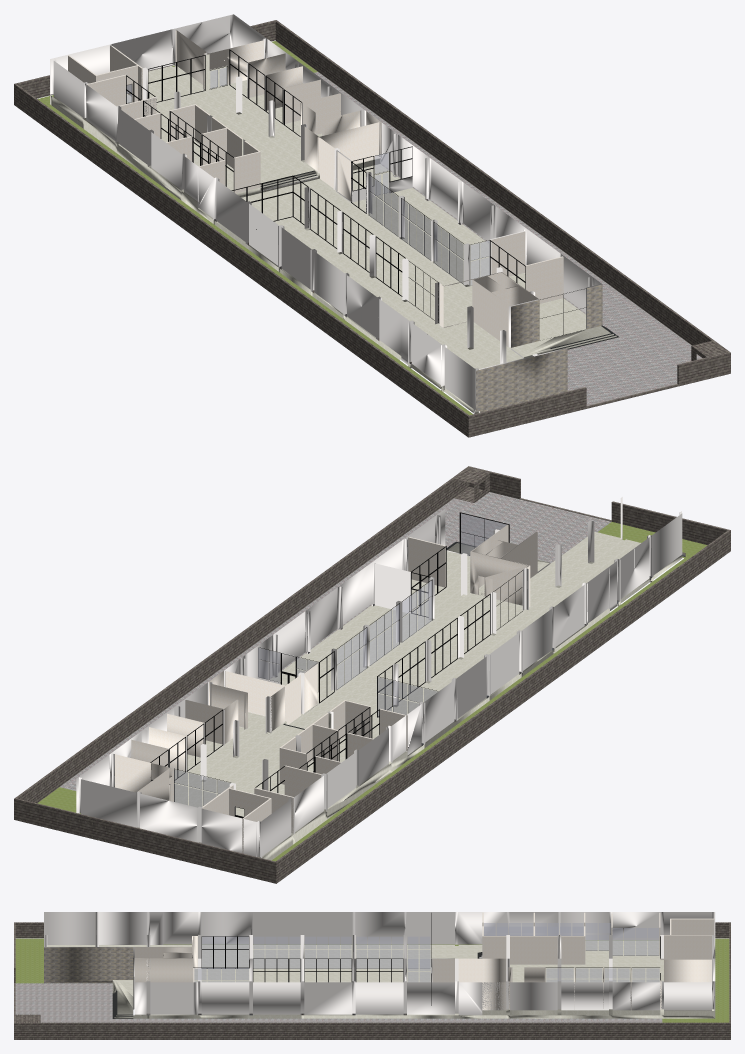
Rendered from Without Furniture-1.glb.
3 views of the same model, one above another, from view 1: azimuth 30°, elevation 25°; view 2: azimuth 150°, elevation 25°; view 3: azimuth 270°, elevation 25° (orthographic). The views are drawn at different scales.
Visible parts, largest first — view 1: Group35, Group1, Group36, Group2, Group26, Group37, Group27, Group24, Group23, Group38, Group22, Group10 (+6 smaller); view 2: Group35, Group1, Group36, Group2, Group26, Group27, Group37, Group24, Group19, Group23, Group22, Group32 (+7 smaller); view 3: Group35, Group1, Group2, Group36, Group27, Group26, Group37, Group28, Group24, Group33, Group16, Group15 (+7 smaller).
Boxes of the visible parts, x1,y1,x2,y2 form: Group35: [50, 14, 602, 413]; Group1: [14, 20, 730, 437]; Group36: [241, 164, 586, 368]; Group2: [37, 41, 702, 415]; Group26: [175, 30, 381, 202]; Group37: [126, 65, 379, 191]; Group27: [68, 45, 260, 193]; Group24: [439, 272, 538, 347]; Group23: [525, 256, 563, 303]; Group38: [511, 325, 618, 357]; Group22: [489, 231, 525, 276]; Group10: [368, 174, 398, 236]; Group35: [76, 497, 685, 860]; Group1: [14, 466, 730, 883]; Group36: [270, 531, 640, 738]; Group2: [37, 492, 707, 861]; Group26: [115, 662, 318, 801]; Group27: [202, 700, 407, 853]; Group37: [174, 712, 345, 818]; Group24: [470, 524, 537, 607]; Group19: [377, 665, 438, 717]; Group23: [408, 537, 445, 587]; Group22: [375, 563, 410, 613]; Group32: [174, 768, 230, 807]; Group35: [44, 912, 715, 1018]; Group1: [14, 922, 730, 1039]; Group2: [15, 938, 729, 1022]; Group36: [47, 945, 482, 982]; Group27: [482, 912, 714, 964]; Group26: [431, 958, 711, 1010]; Group37: [510, 940, 660, 982]; Group28: [477, 923, 658, 958]; Group24: [134, 936, 197, 982]; Group33: [546, 967, 659, 982]; Group16: [201, 936, 249, 968]; Group15: [304, 936, 351, 968].
Size of the model in its own units: 100 by 17 by 300.
14 materials, 9 textured.
